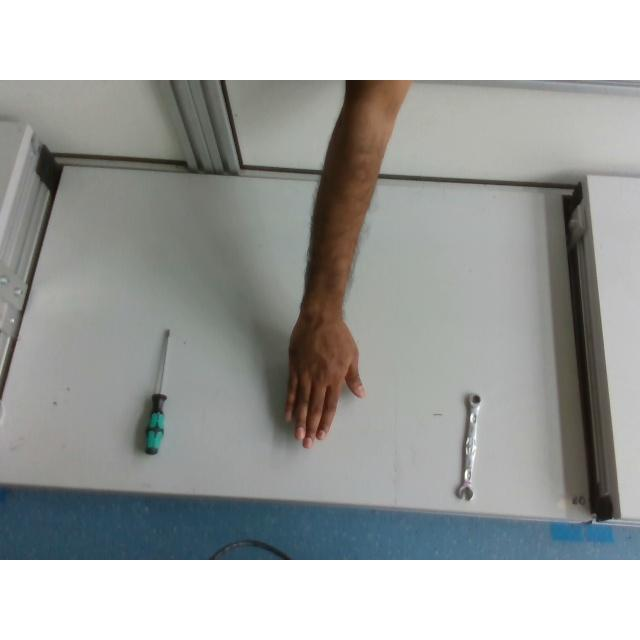Screwdriver: (142, 330, 174, 454)
Wrench: (454, 393, 482, 501)
